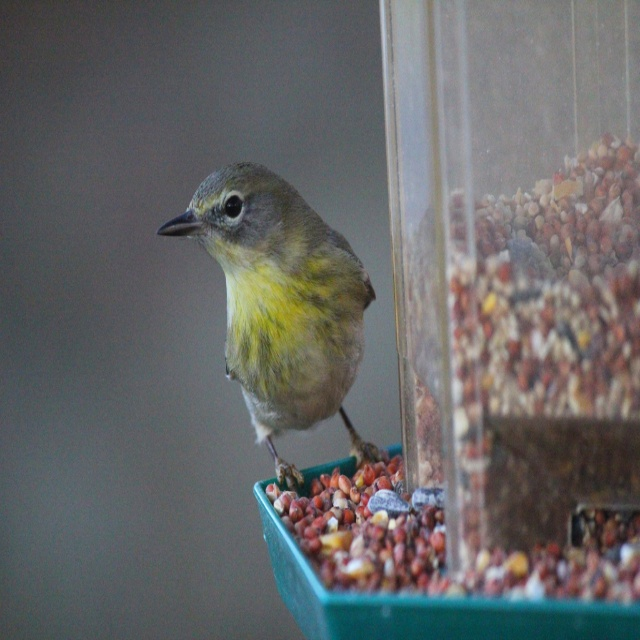Canary: (156, 158, 391, 491)
